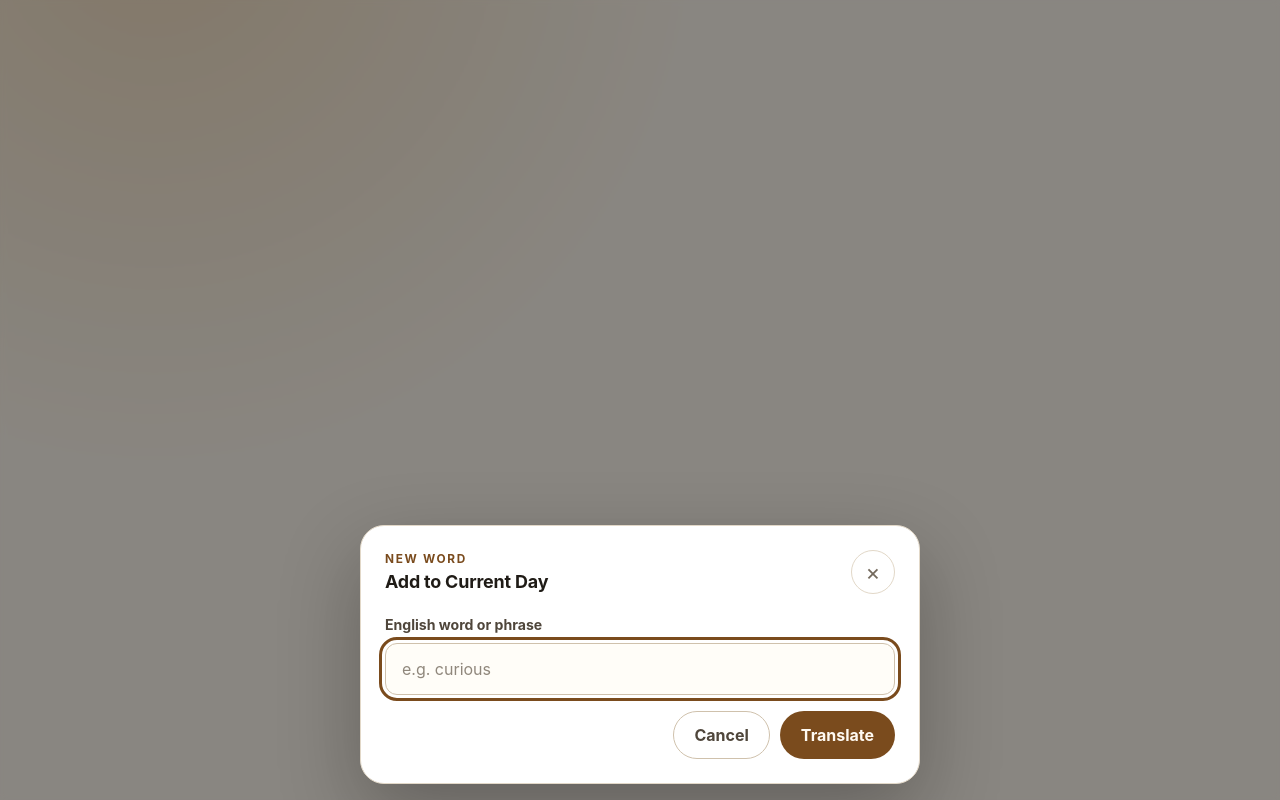
Test case: AddCardDialog › blocks a duplicate word
Step 1. Type "  CURIOUS " into the field labelled "English word or phrase" → (640, 669), box [385,643,895,695]
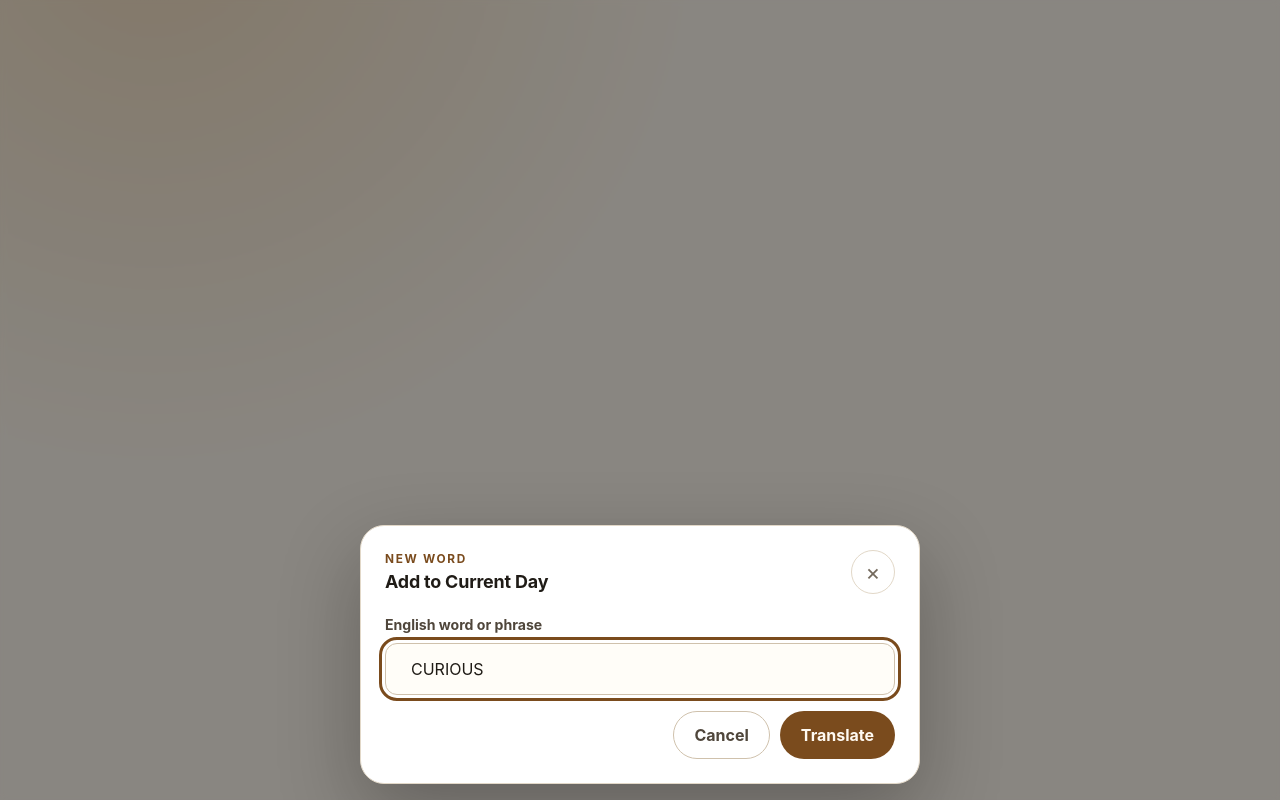
Step 2. Click the button "Translate" → (837, 735), box [780,711,895,759]
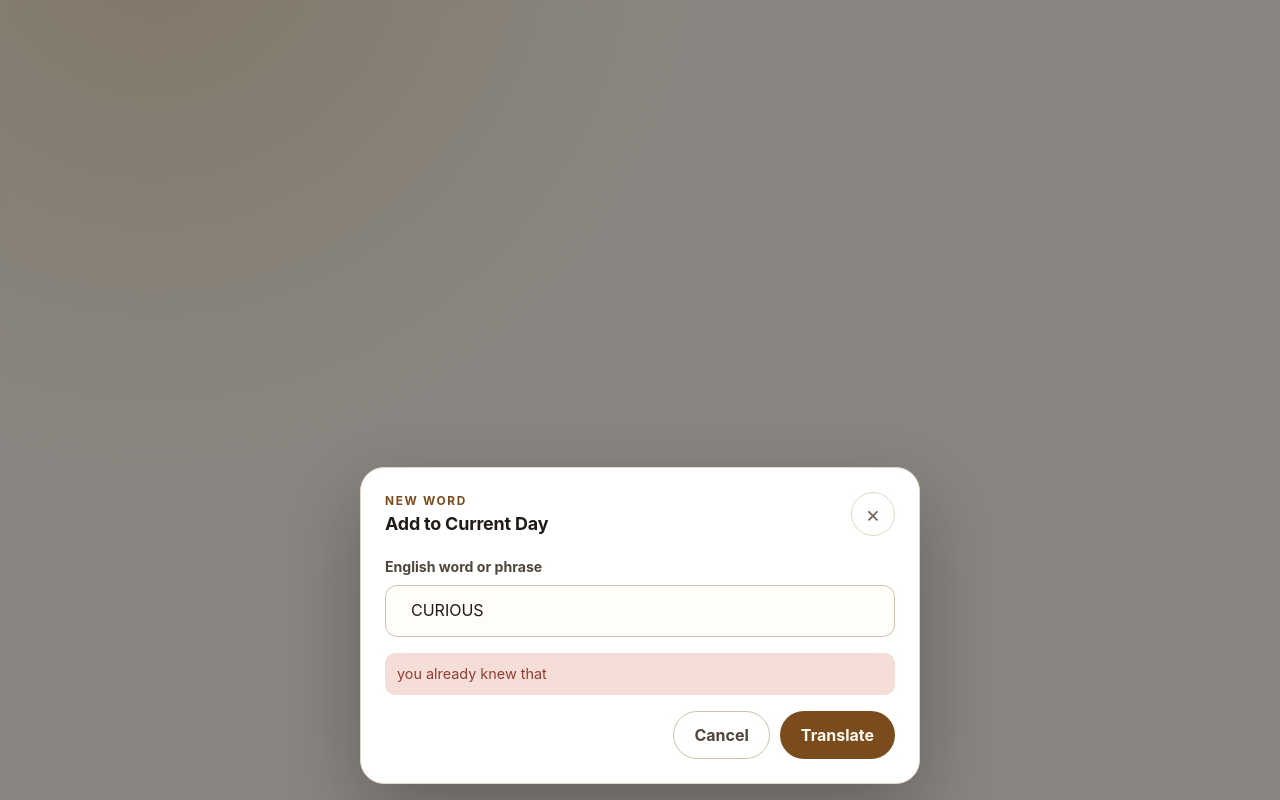
Expected: the message reads "you already knew that", [397,665,547,682]
